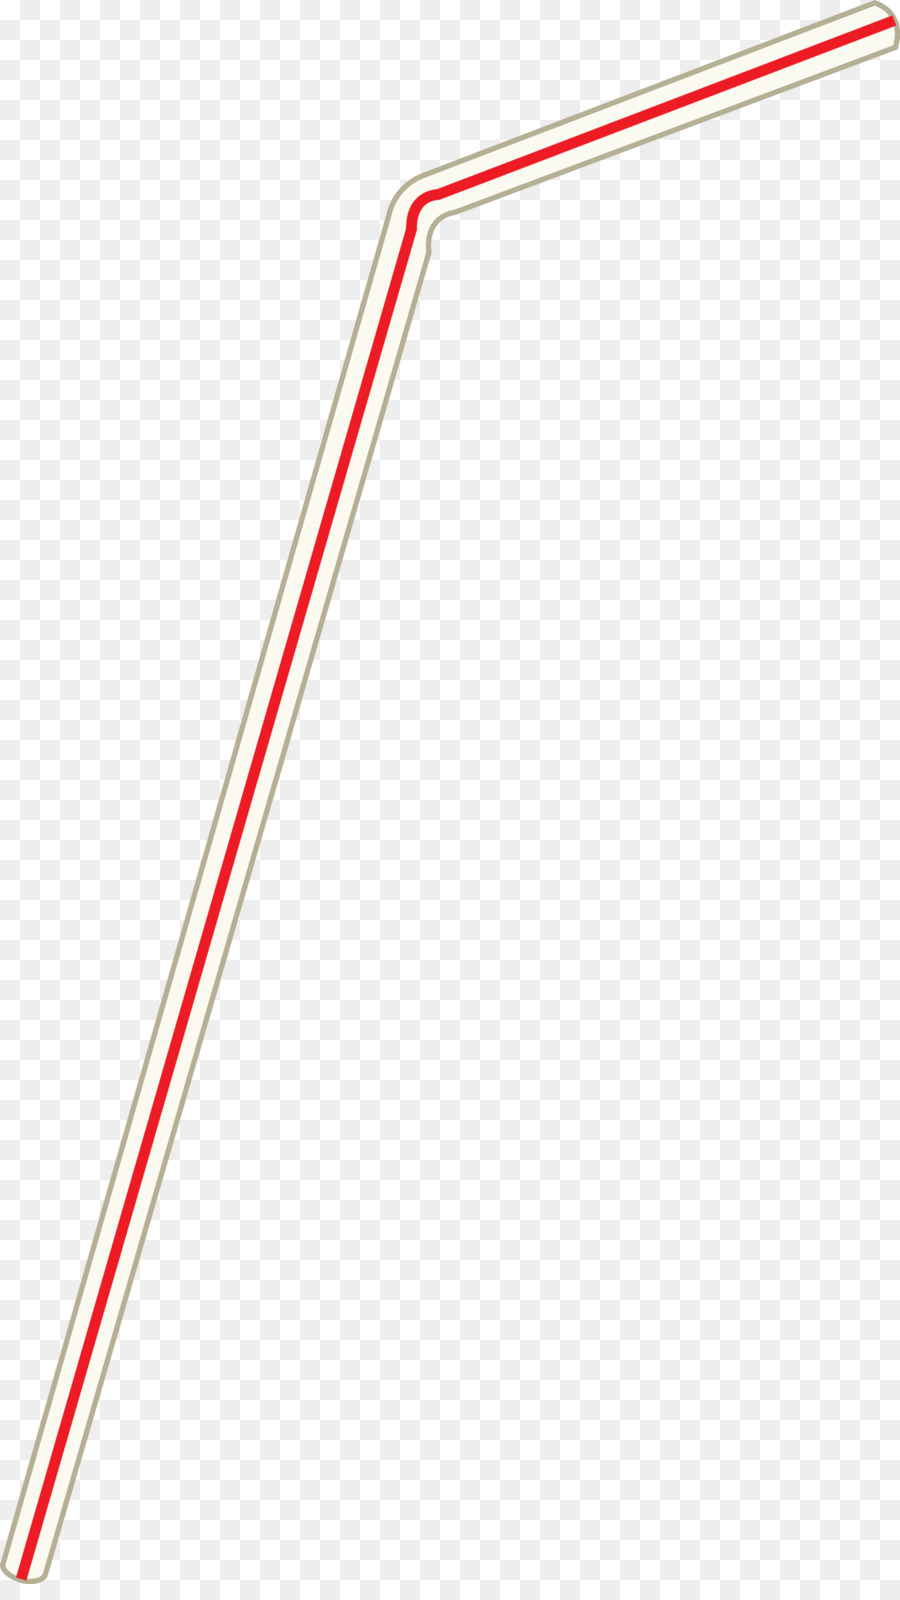Drinking Straw: (3, 1, 900, 1593)
